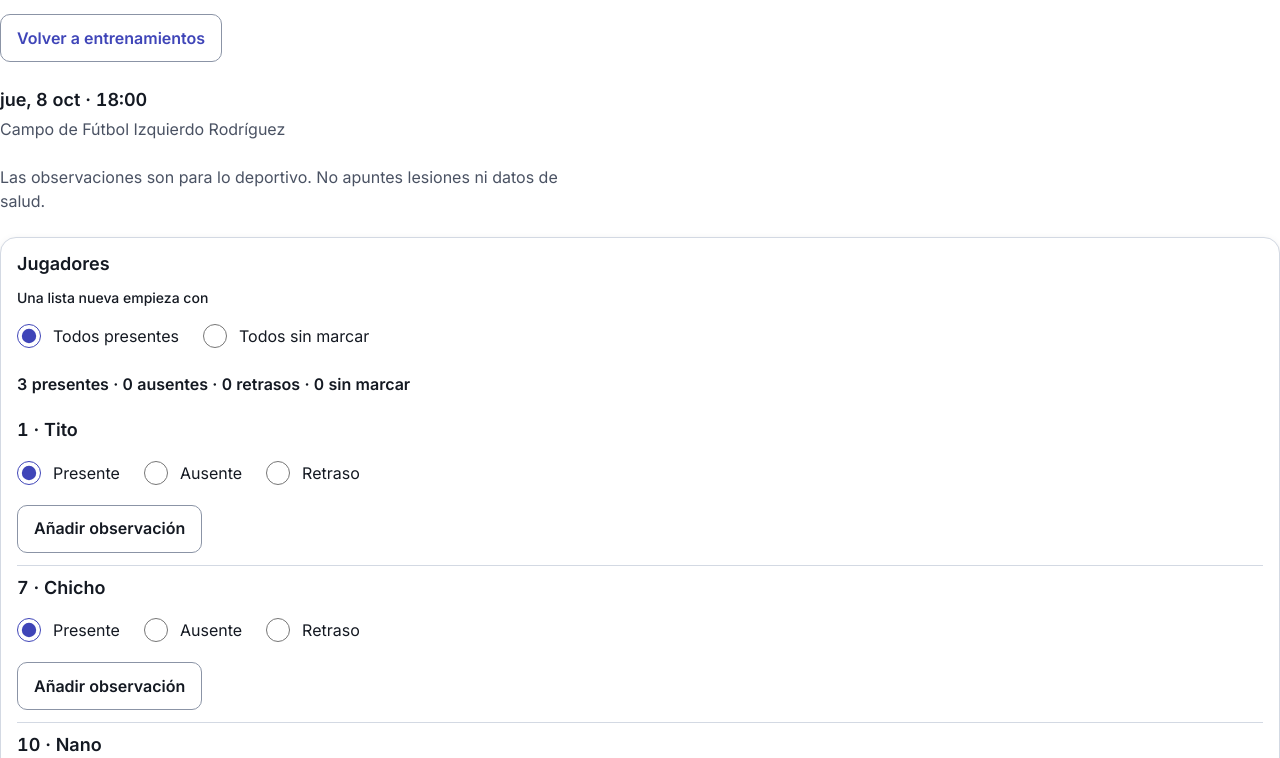
Scenario: ListaPage · guardar › lo que se marca mientras se guarda no se pierde: queda sin guardar
The width and height of the screenshot is (1280, 758).
Click the radio button labelled "Ausente" below "7 · Chicho".
click(156, 630)  # box [144, 618, 168, 642]
(page scrolled)
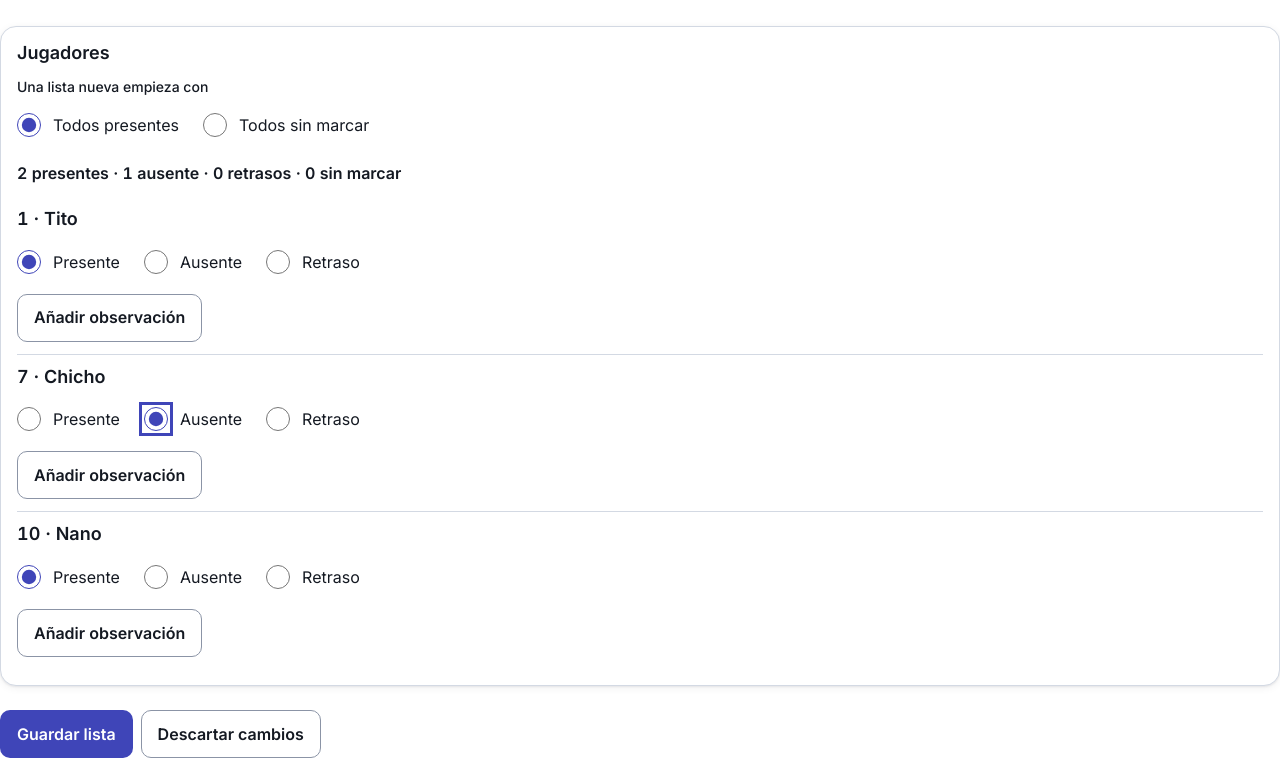
Click the button "Guardar lista".
click(66, 734)  # box [0, 710, 133, 757]
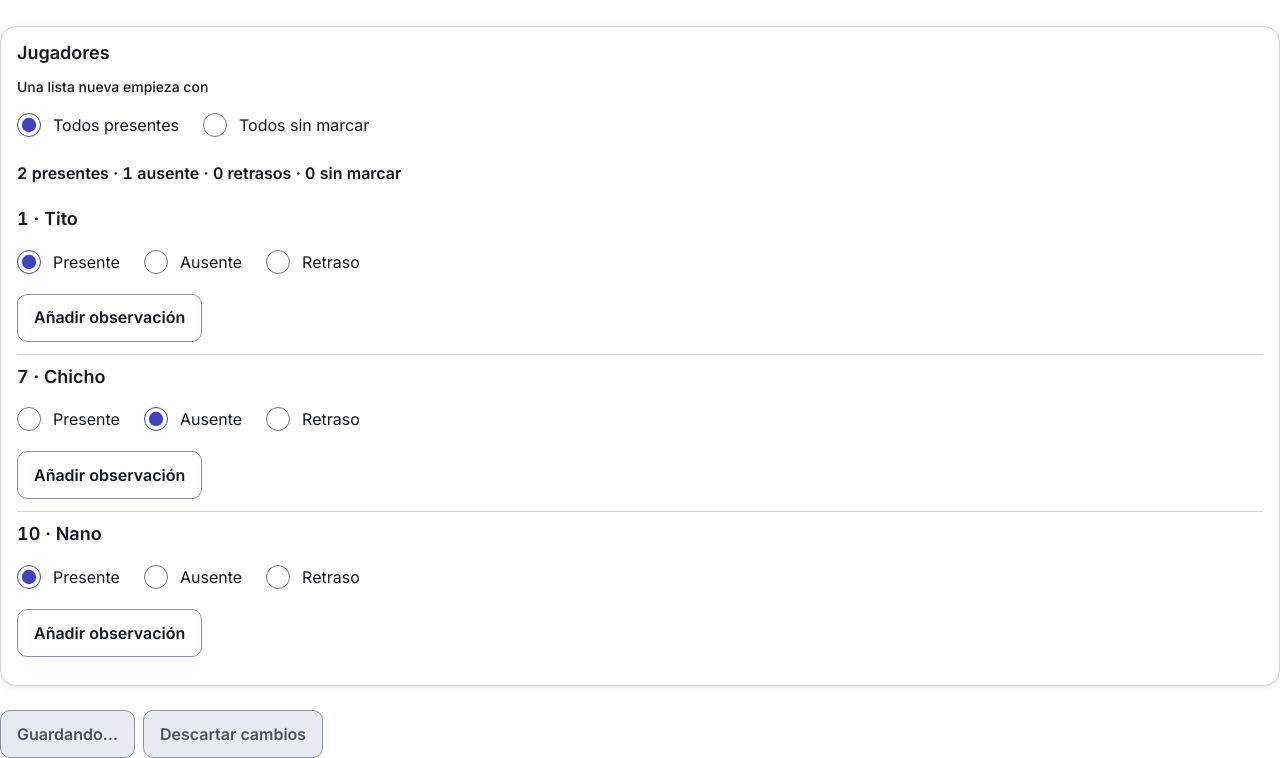
Result: the button "Guardando…" is shown at [0, 710, 135, 757]
Click the radio button labelled "Retraso" below "10 · Nano".
click(278, 577)  # box [266, 565, 290, 589]
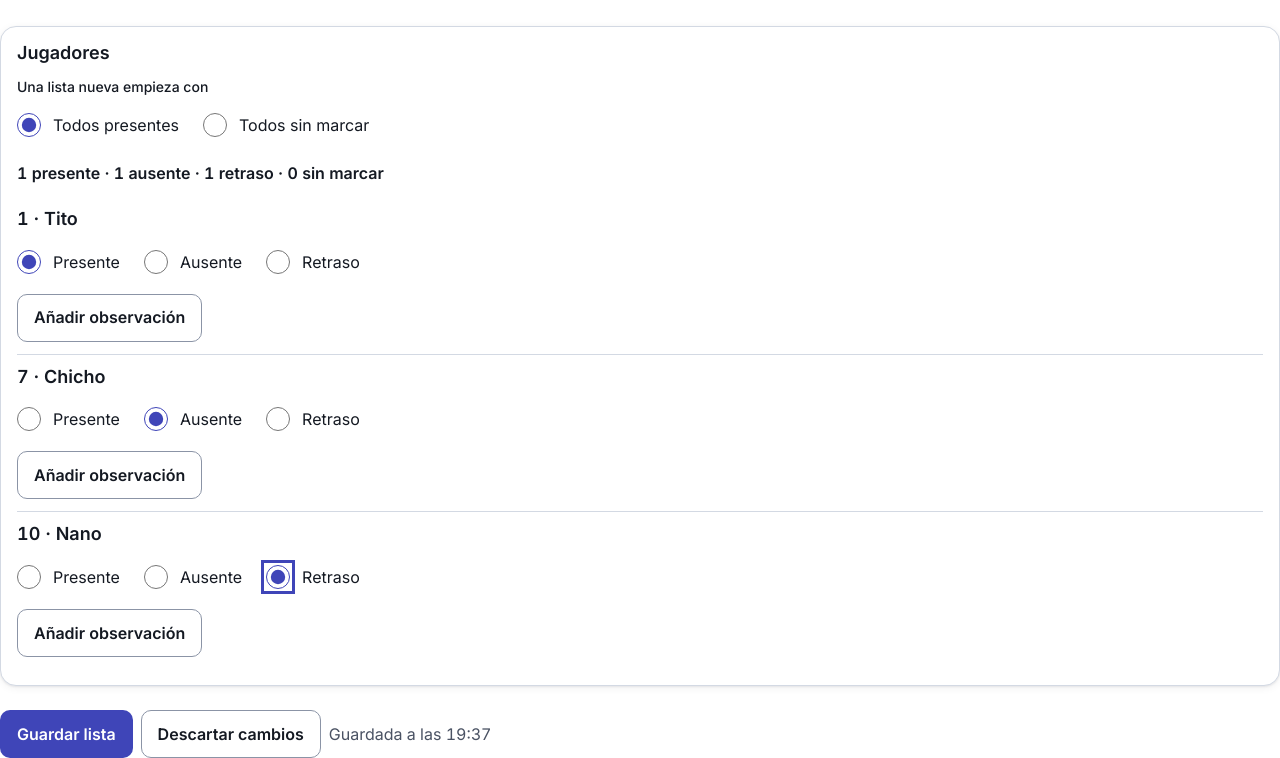
Result: the button "Descartar cambios" is shown at [141, 710, 321, 757]
Result: the text "Guardada a las 19:37" is shown at [329, 722, 492, 746]
